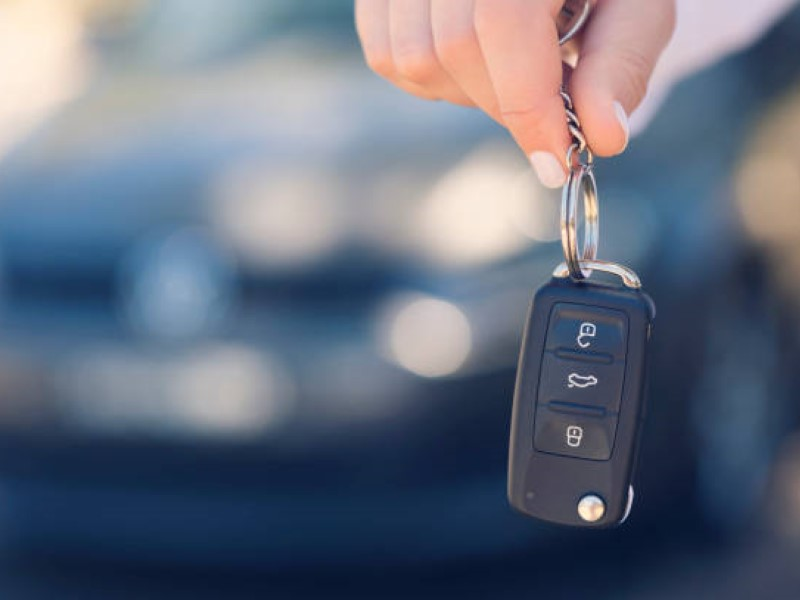carkey: (498, 255, 662, 534)
